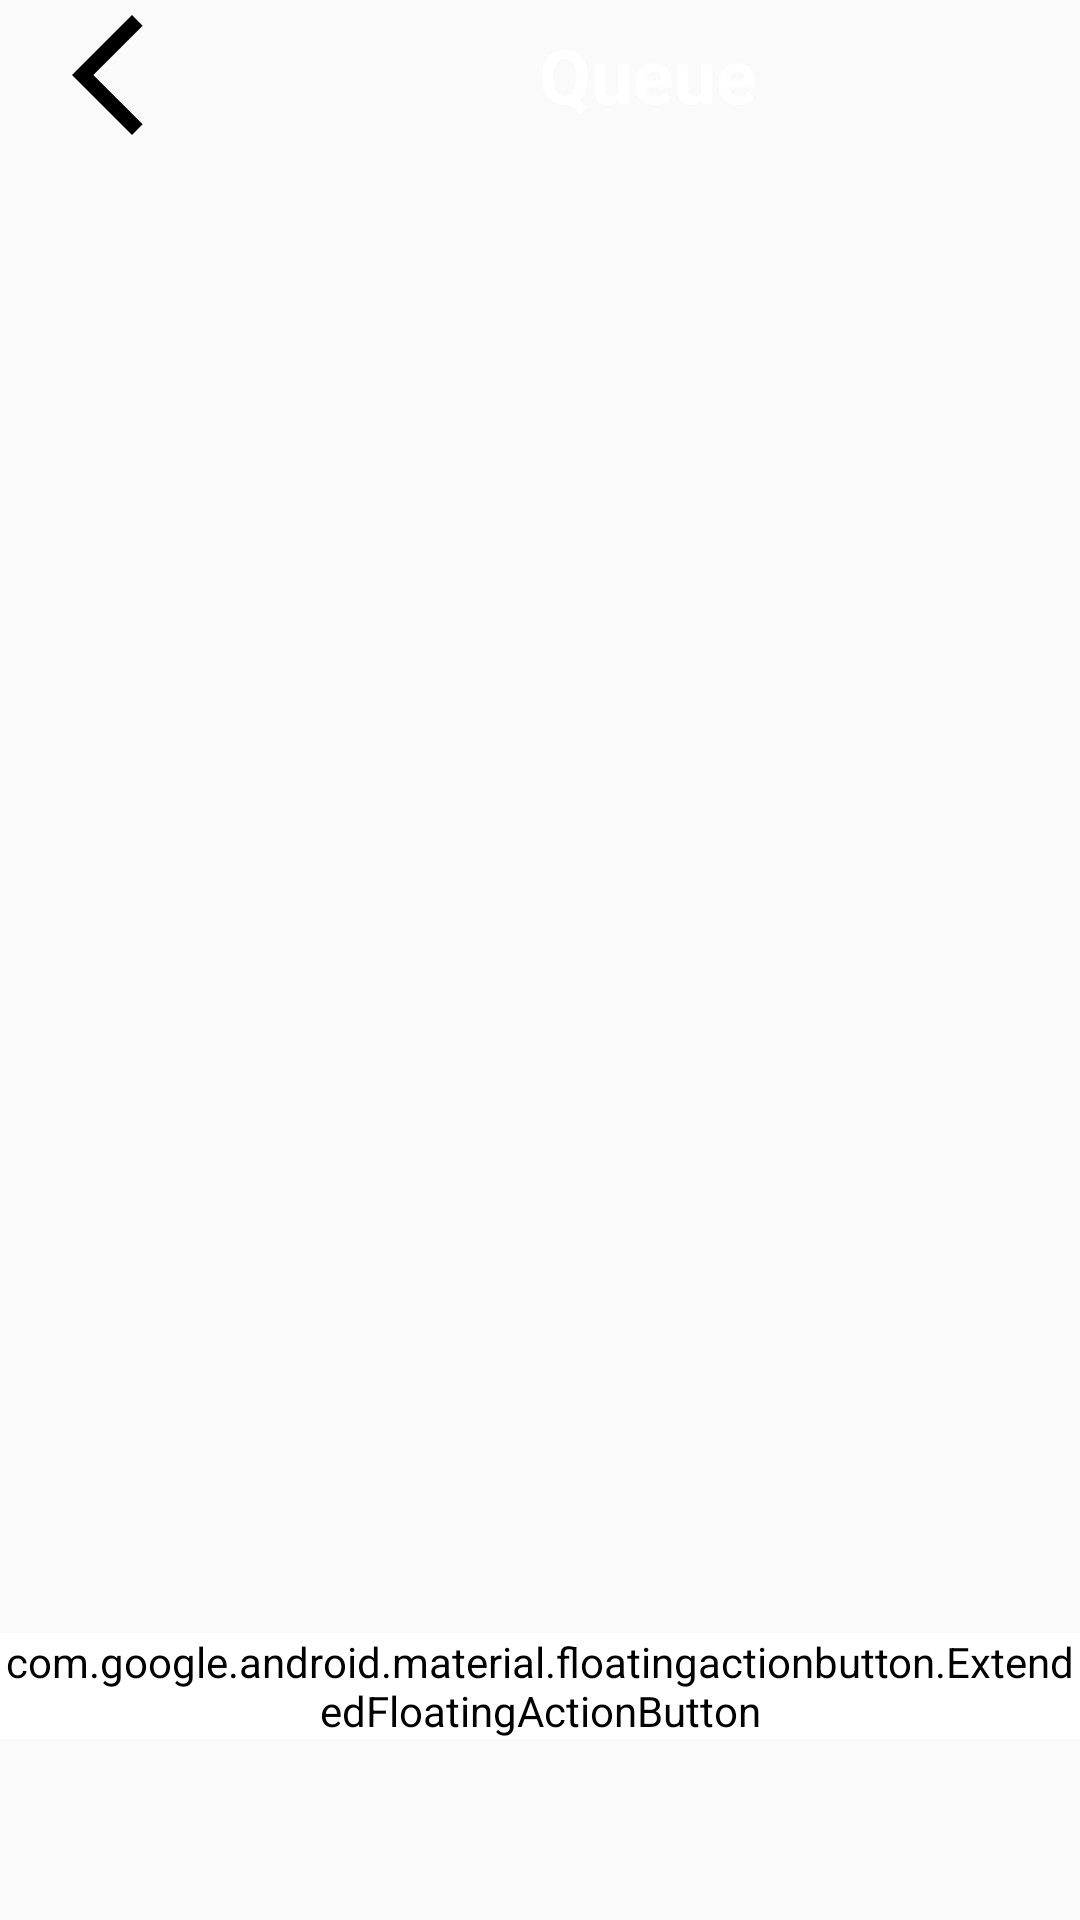

Point at icon controls on the screen. Image size 1080×1920, points as (x=x, y=y).
Back: (x=107, y=75)
